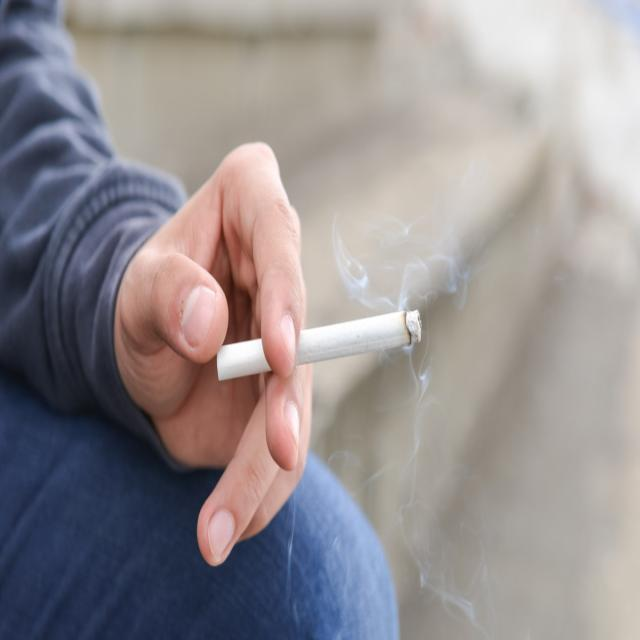rokok: (207, 303, 426, 385)
